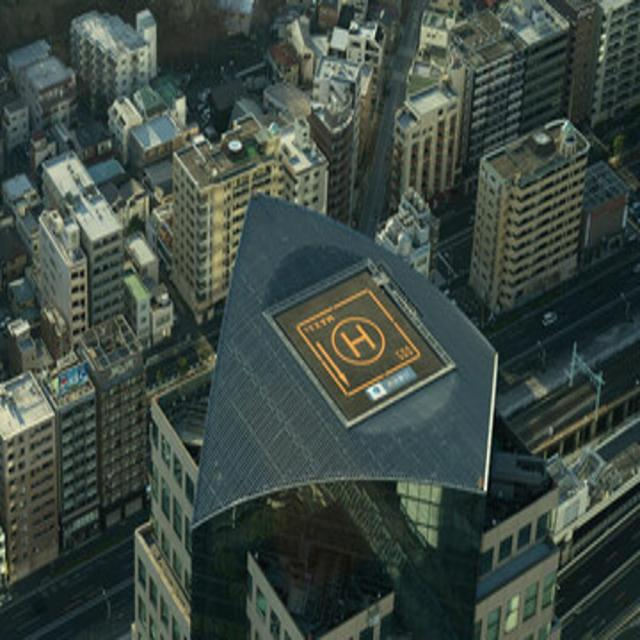helipad: (329, 316, 385, 364)
